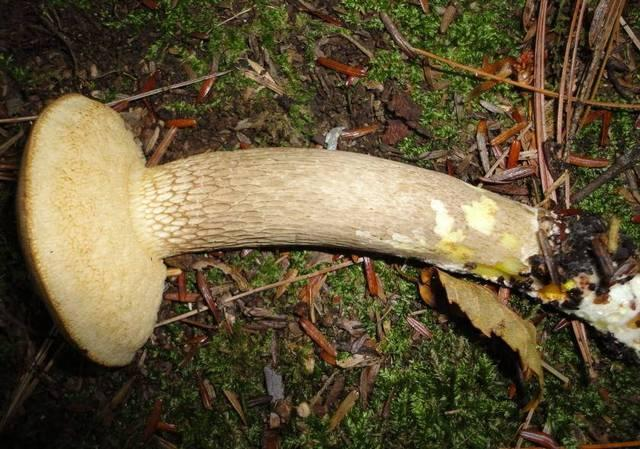Non-edible Mushroom: (10, 80, 640, 362)
